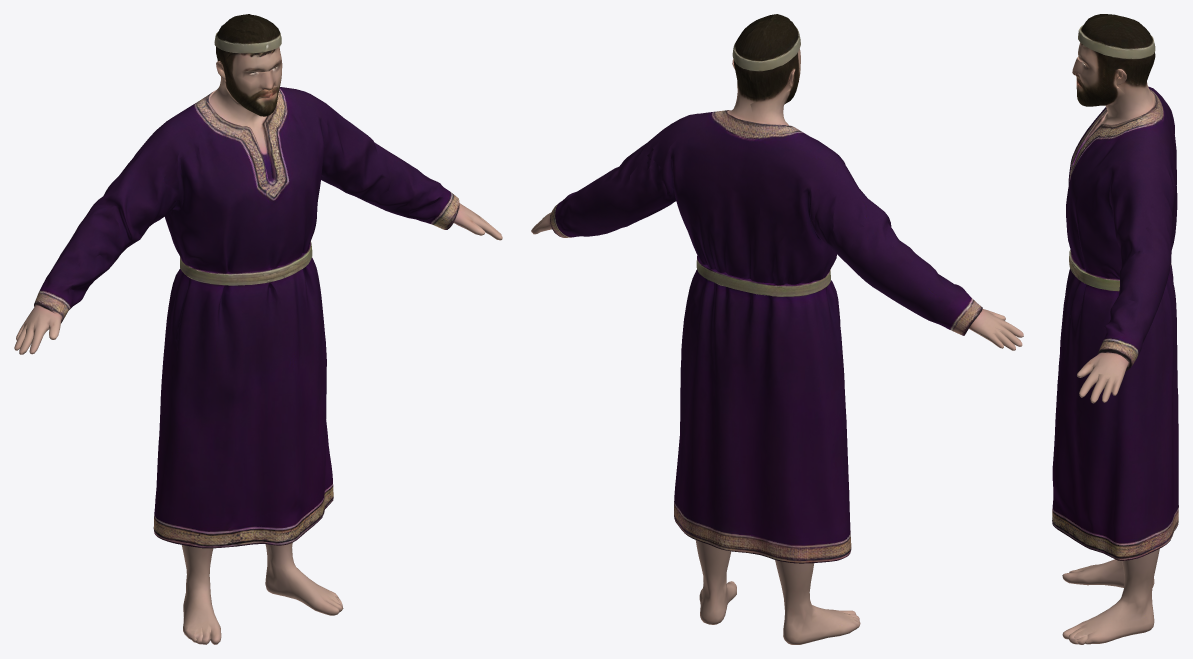
The model's file is melekh_1.glb.
3 views of the same model, side by side, from view 1: azimuth 30°, elevation 25°; view 2: azimuth 150°, elevation 25°; view 3: azimuth 270°, elevation 25° (orthographic).
Visible parts, largest first — view 1: Mesh; view 2: Mesh; view 3: Mesh.
Boxes of the visible parts, box(x1,y1,x2,y2) form: Mesh: box(14, 14, 502, 644); Mesh: box(531, 14, 1023, 644); Mesh: box(1052, 14, 1178, 644).
Size of the model in its own units: 1.6 by 1.9 by 0.3666.
1 material, 1 textured.
